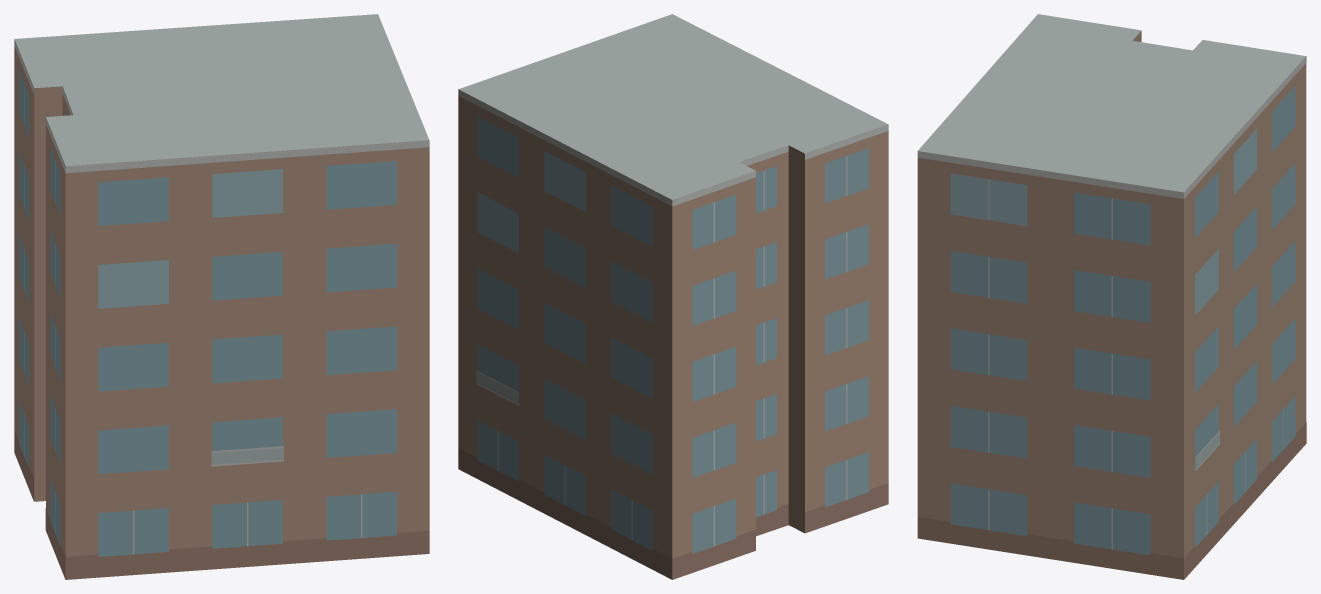
The model's file is survey-upis-32878850.glb.
3 renders of one model, left to right at view 1: azimuth 30°, elevation 25°; view 2: azimuth 150°, elevation 25°; view 3: azimuth 270°, elevation 25°, orthographic. The views are drawn at different scales.
Visible parts, largest first — view 1: survey-upis-32878850.tmp; view 2: survey-upis-32878850.tmp; view 3: survey-upis-32878850.tmp.
Boxes of the visible parts, box(x1,y1,x2,y2) form: survey-upis-32878850.tmp: box(14, 14, 429, 579); survey-upis-32878850.tmp: box(458, 14, 888, 579); survey-upis-32878850.tmp: box(917, 14, 1306, 579).
Size of the model in its own units: 14.23 by 14.4 by 13.11.
